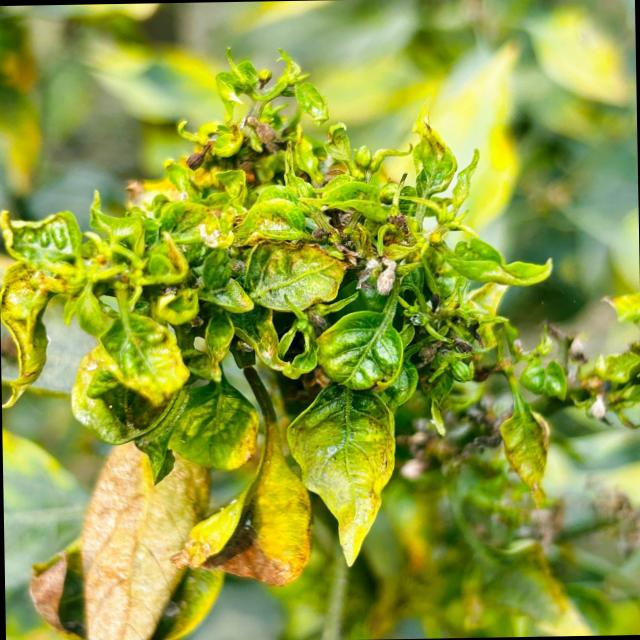Chilli_Leaf_Curl: (0, 37, 572, 639), (283, 380, 398, 568), (313, 305, 404, 393), (240, 239, 346, 314)
